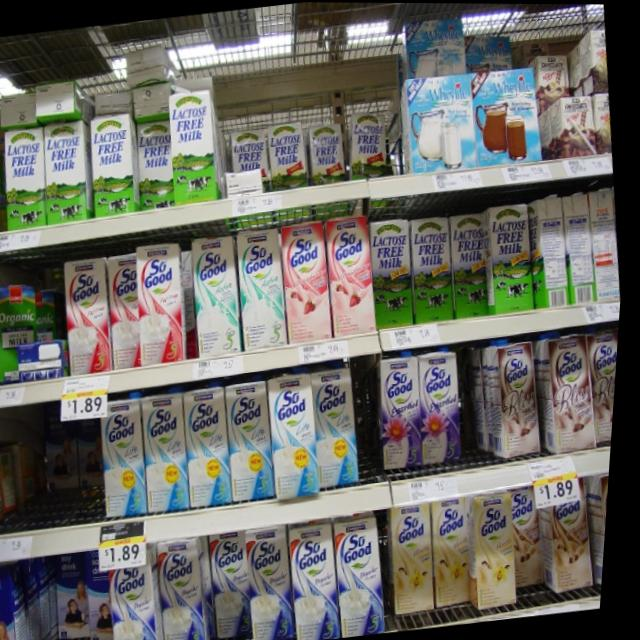q262: (310, 363, 375, 498), (265, 375, 335, 499), (183, 380, 244, 510), (226, 377, 289, 502), (104, 403, 163, 524), (143, 394, 203, 509)
